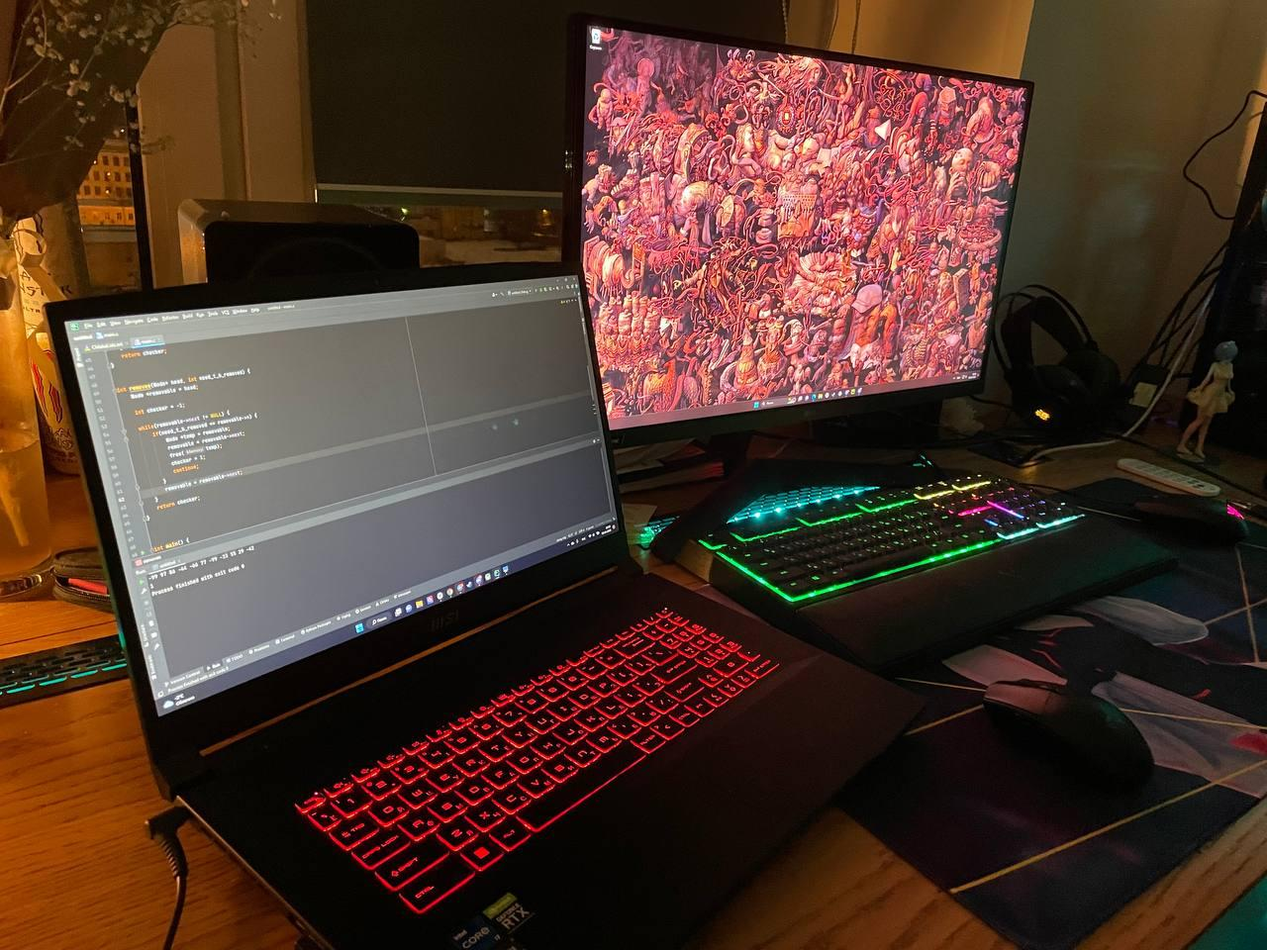monitor: (42, 257, 635, 772), (556, 11, 1038, 465)
